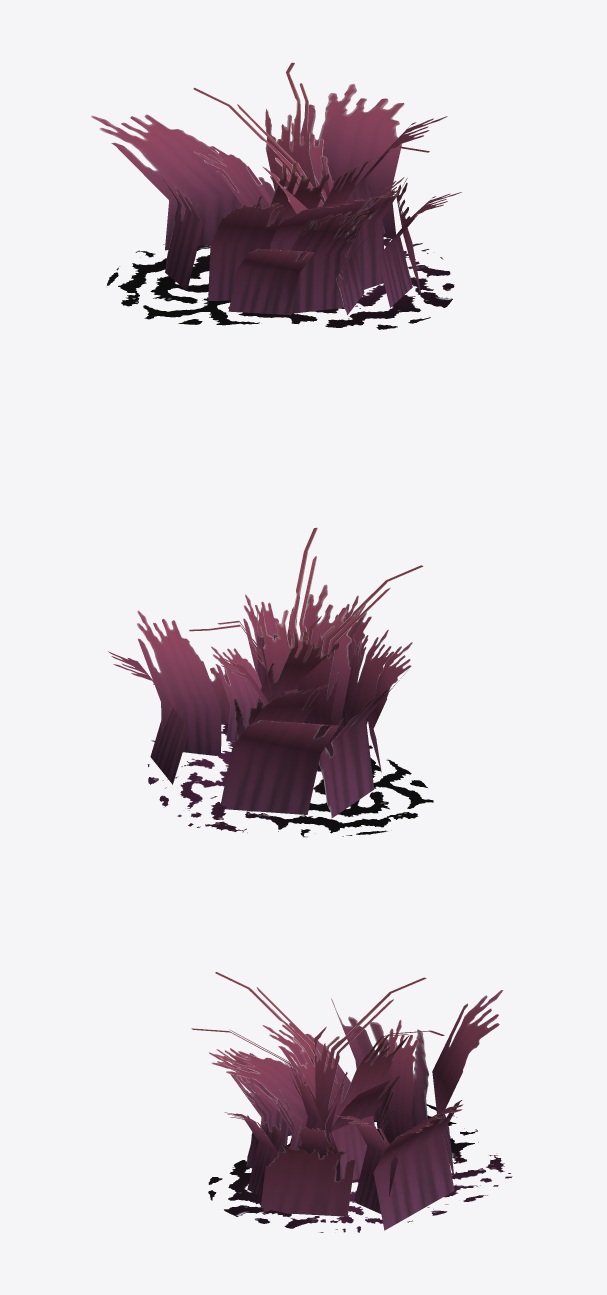
The model's file is Grass 1.fbx.
3 views of the same model, one above another, from view 1: azimuth 30°, elevation 25°; view 2: azimuth 150°, elevation 25°; view 3: azimuth 270°, elevation 25° (orthographic). The views are drawn at different scales.
Parts seen in each view (by area): view 1: Plane.005; view 2: Plane.005; view 3: Plane.005.
Part boxes in pixels (x1,y1,x2,y2): Plane.005: (91,62,461,329); Plane.005: (108,527,433,837); Plane.005: (191,972,512,1232).
Bounding box in the file's own units: 428 × 185 × 501.
